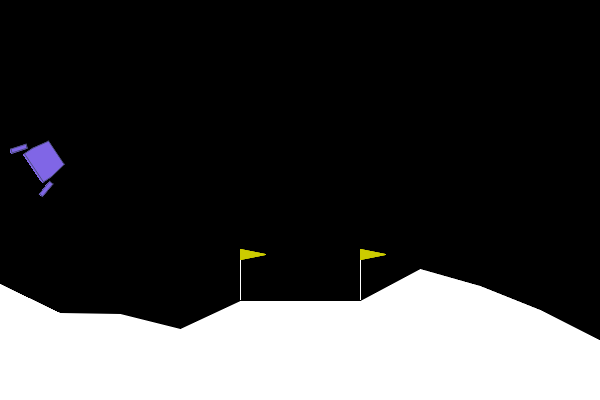lander: (8, 127, 74, 199)
